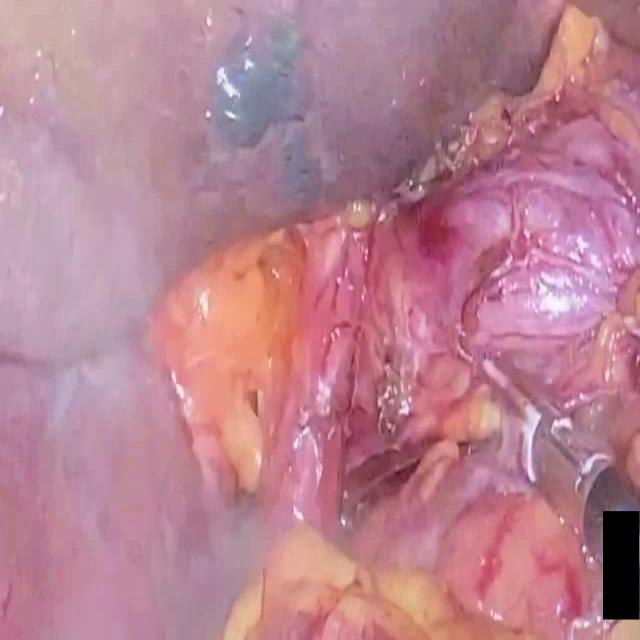surgical-area: (0, 1, 640, 639)
